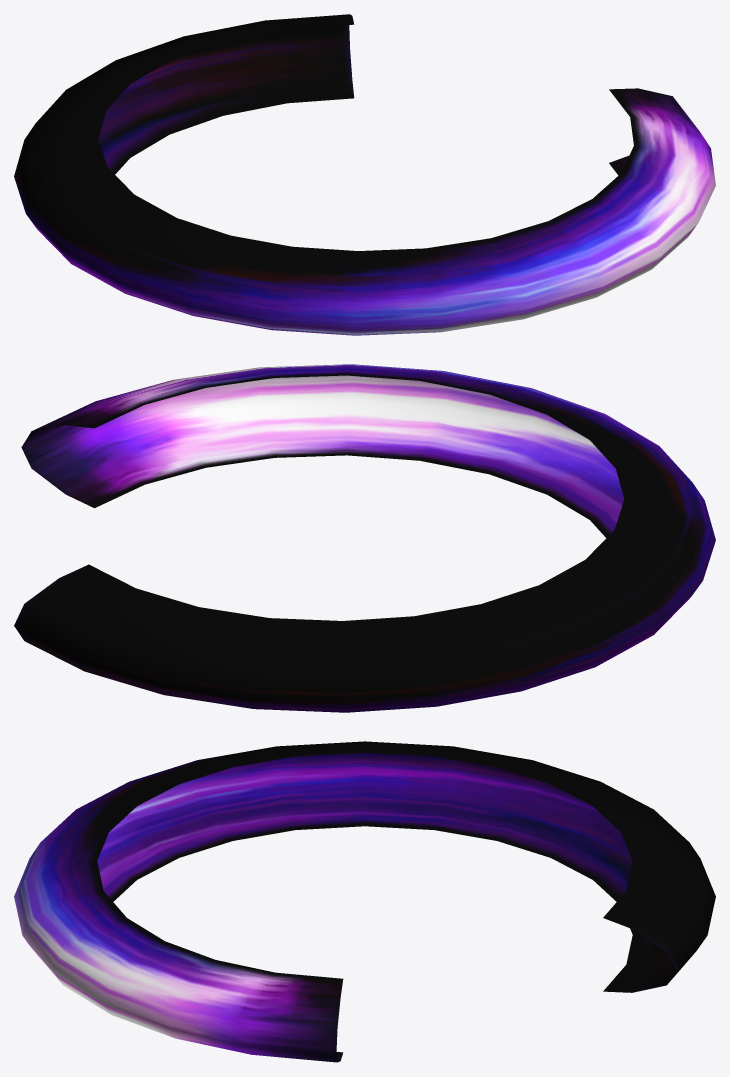
The model's file is daohuan_2.FBX.
The picture shows the model from 3 angles, top to bottom: view 1: azimuth 30°, elevation 25°; view 2: azimuth 150°, elevation 25°; view 3: azimuth 270°, elevation 25°; orthographic projection. The views are drawn at different scales.
Parts seen in each view (by area): view 1: daohuan_2; view 2: daohuan_2; view 3: daohuan_2.
Boxes of the visible parts, box(x1,y1,x2,y2) form: daohuan_2: box(14, 14, 715, 335); daohuan_2: box(14, 364, 715, 712); daohuan_2: box(14, 741, 715, 1062).
Size of the model in its own units: 3246 by 376 by 3249.
